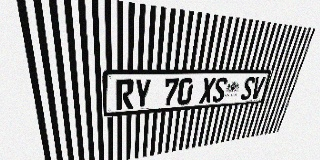0: (177, 78, 194, 105)
7: (162, 78, 179, 106)
R: (116, 79, 134, 110)
S: (211, 77, 228, 102), (240, 77, 256, 100)
V: (250, 76, 266, 99)
X: (199, 77, 216, 103)
Y: (134, 79, 152, 109)
